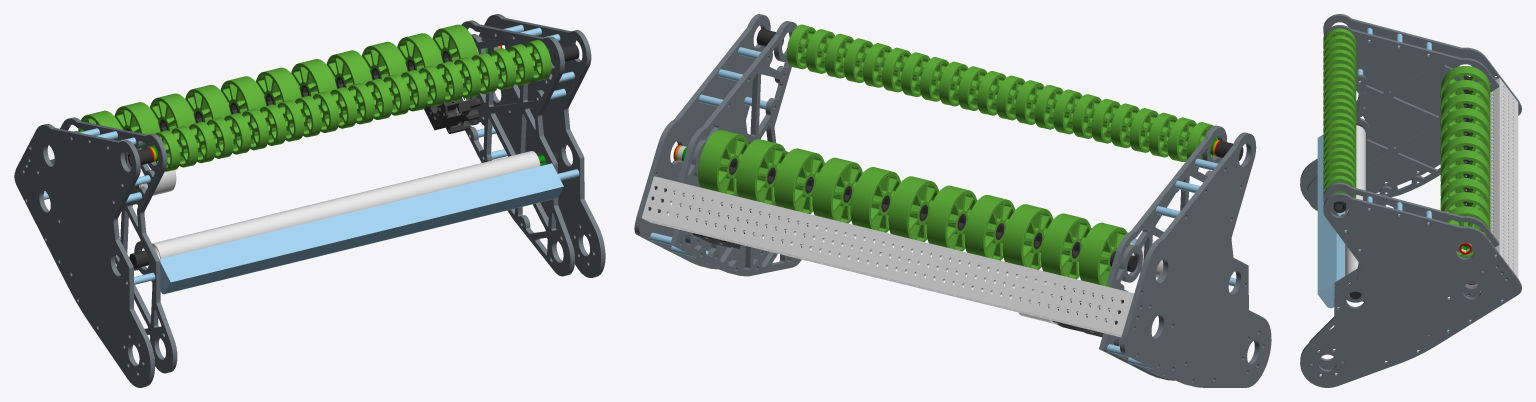
3 views of the same model, side by side, from view 1: azimuth 30°, elevation 25°; view 2: azimuth 150°, elevation 25°; view 3: azimuth 270°, elevation 25° (orthographic). The views are drawn at different scales.
Parts seen in each view (by area): view 1: merged_0, merged_2, merged_3, merged_24, merged_21, merged_10, merged_1; view 2: merged_2, merged_0, merged_12, merged_3, merged_1, merged_10; view 3: merged_0, merged_2, merged_12, merged_3, merged_24, merged_1, merged_10.
Part boxes in pixels (x1=…): merged_0: x1=14, y1=14, x2=605, y2=387; merged_2: x1=78, y1=24, x2=551, y2=171; merged_3: x1=43, y1=24, x2=579, y2=294; merged_24: x1=152, y1=151, x2=540, y2=258; merged_21: x1=424, y1=96, x2=480, y2=133; merged_10: x1=128, y1=44, x2=579, y2=268; merged_1: x1=125, y1=51, x2=450, y2=194; merged_2: x1=698, y1=24, x2=1217, y2=287; merged_0: x1=634, y1=14, x2=1271, y2=387; merged_12: x1=641, y1=176, x2=1134, y2=337; merged_3: x1=650, y1=47, x2=1235, y2=368; merged_1: x1=648, y1=158, x2=1123, y2=331; merged_10: x1=756, y1=29, x2=1243, y2=272; merged_0: x1=1300, y1=14, x2=1521, y2=387; merged_2: x1=1323, y1=28, x2=1490, y2=257; merged_12: x1=1489, y1=78, x2=1518, y2=277; merged_3: x1=1317, y1=28, x2=1503, y2=330; merged_24: x1=1345, y1=125, x2=1365, y2=284; merged_1: x1=1459, y1=89, x2=1507, y2=278; merged_10: x1=1333, y1=35, x2=1469, y2=299.
Size of the model in its own units: 0.654 by 0.3265 by 0.3392.
